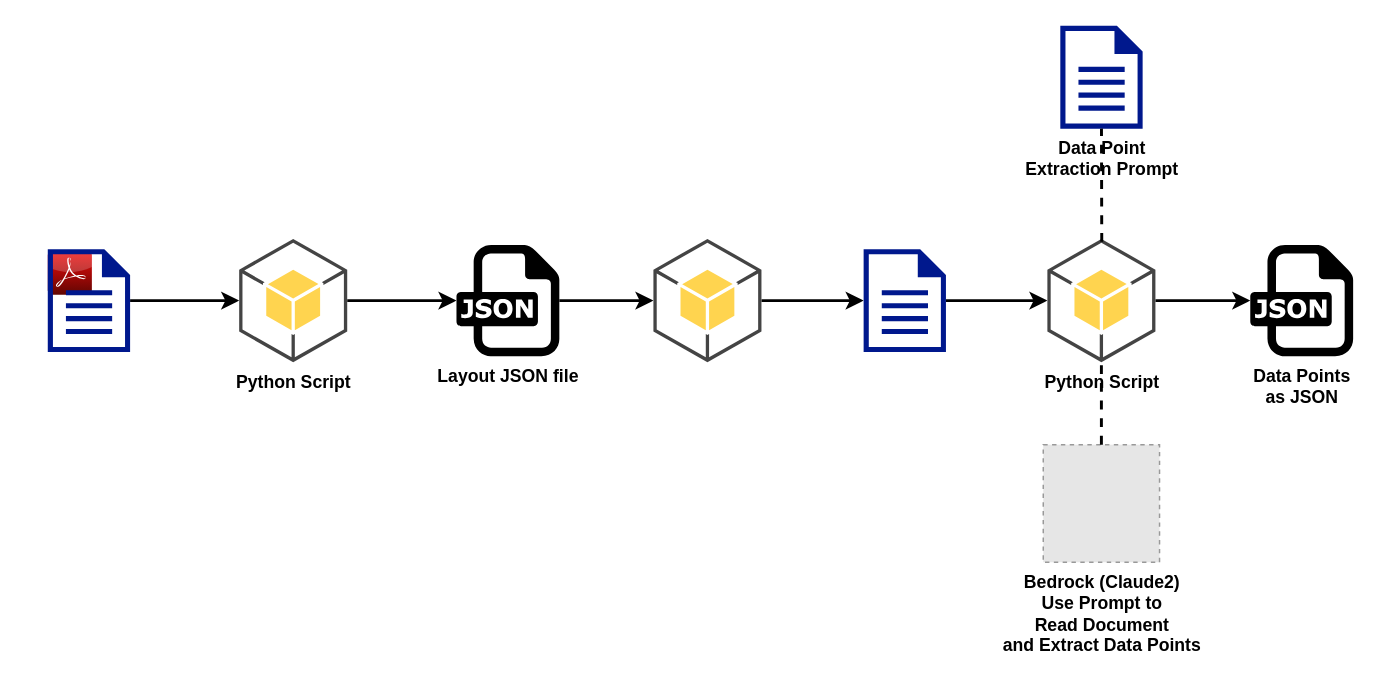
This 1379x682 diagram has some shape labels left out. Grey dashed boxes stand in for pictures. Each missing label, with the box of its shape:
Document Text: (863, 248, 945, 351)
PDF Document: (47, 248, 129, 351)
Python Script PDF Plumber Extraction: (652, 237, 761, 362)
